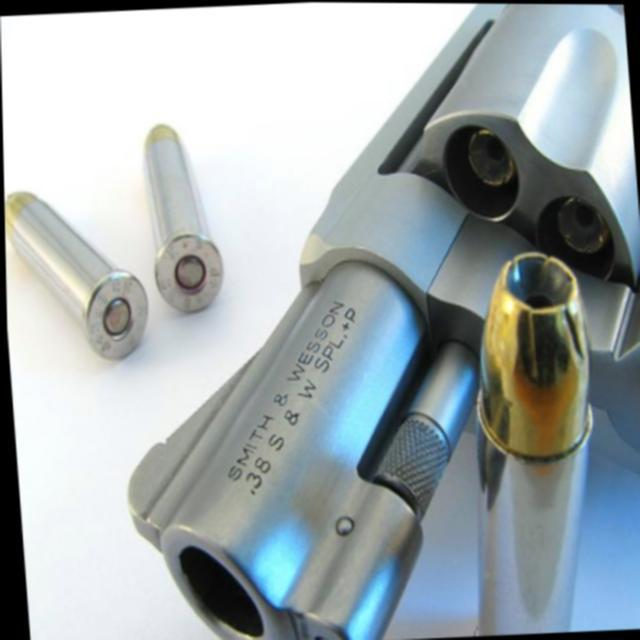weapon: (90, 1, 640, 640)
